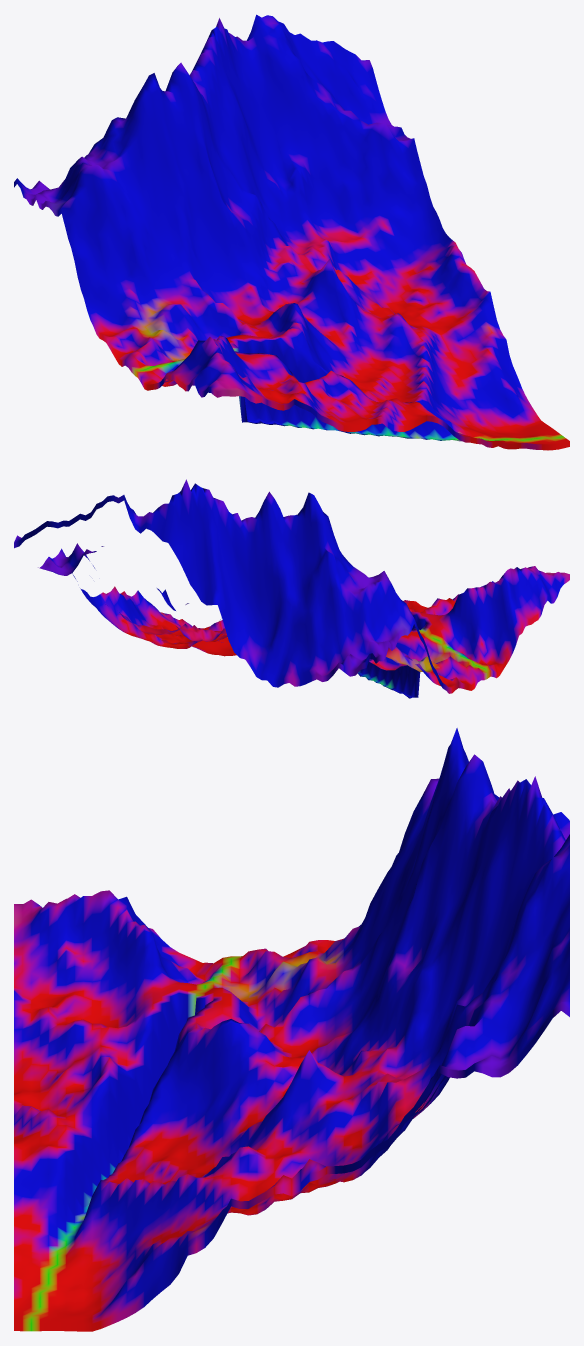
Rendered from chunk_3_0.glb.
3 renders of one model, top to bottom at view 1: azimuth 30°, elevation 25°; view 2: azimuth 150°, elevation 25°; view 3: azimuth 270°, elevation 25°, orthographic. The views are drawn at different scales.
Visible parts, largest first — view 1: LOD0; view 2: LOD0; view 3: LOD0.
Boxes of the visible parts, bbox=[...] form: LOD0: bbox=[14, 14, 569, 450]; LOD0: bbox=[14, 479, 569, 698]; LOD0: bbox=[14, 728, 569, 1331].
Size of what is drawn, in the model's own units: 256 by 228 by 256.
